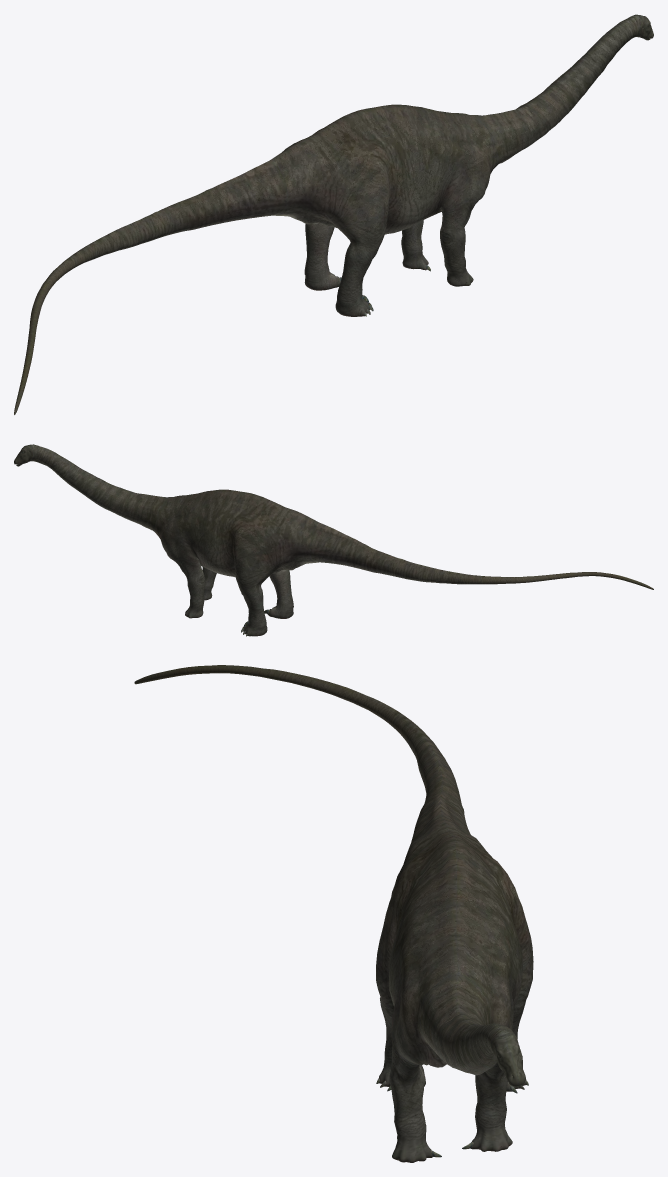
Rendered from apato.glb.
The picture shows the model from 3 angles, top to bottom: view 1: azimuth 30°, elevation 25°; view 2: azimuth 150°, elevation 25°; view 3: azimuth 270°, elevation 25°; orthographic projection. The views are drawn at different scales.
Visible parts, largest first — view 1: EFS1_part_0000_0; view 2: EFS1_part_0000_0; view 3: EFS1_part_0000_0.
Part boxes in pixels (x1=…): EFS1_part_0000_0: x1=14, y1=14, x2=653, y2=414; EFS1_part_0000_0: x1=14, y1=444, x2=653, y2=636; EFS1_part_0000_0: x1=134, y1=665, x2=533, y2=1162.
Bounding box in the file's own units: 79.59 × 18.79 × 25.28.
5 materials, 5 textured.
